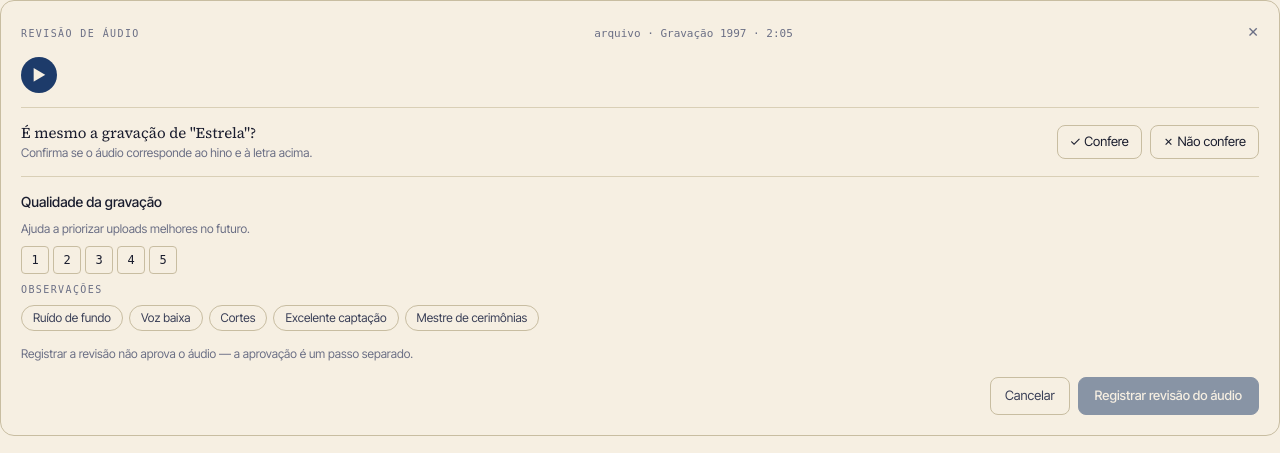
Test: AudioReviewDrawer — 5C.15 (submit) › submit fica desabilitado até responder se confere
Expected: the button with test id "audio-review-submit" is disabled, top-left (1078, 377), bottom-right (1259, 414)
Click the button with test id "audio-match-yes". click: (1099, 142)
box: top-left (1057, 125), bottom-right (1142, 158)
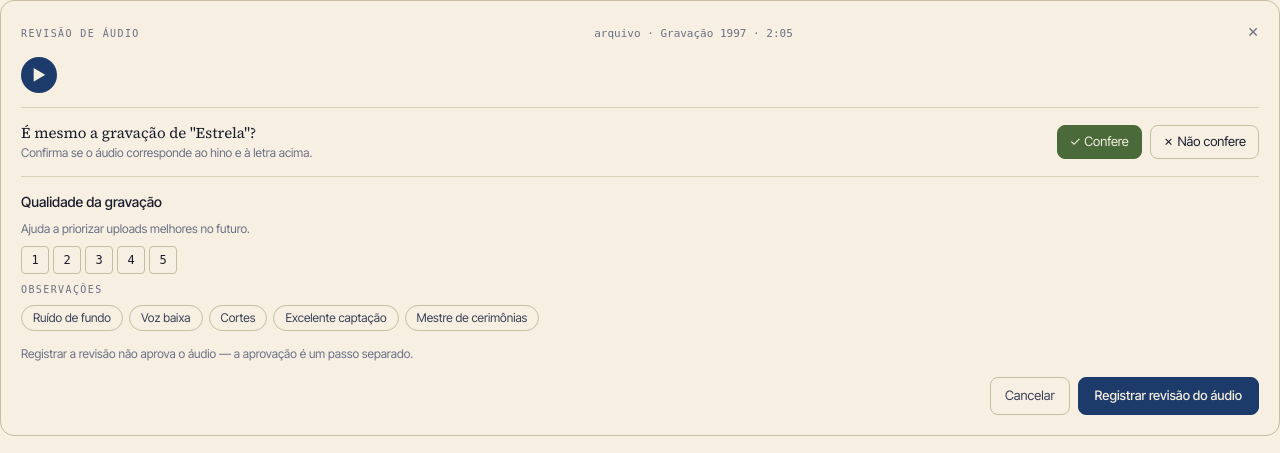
Expected: the button with test id "audio-review-submit" is enabled, top-left (1078, 377), bottom-right (1259, 414)
